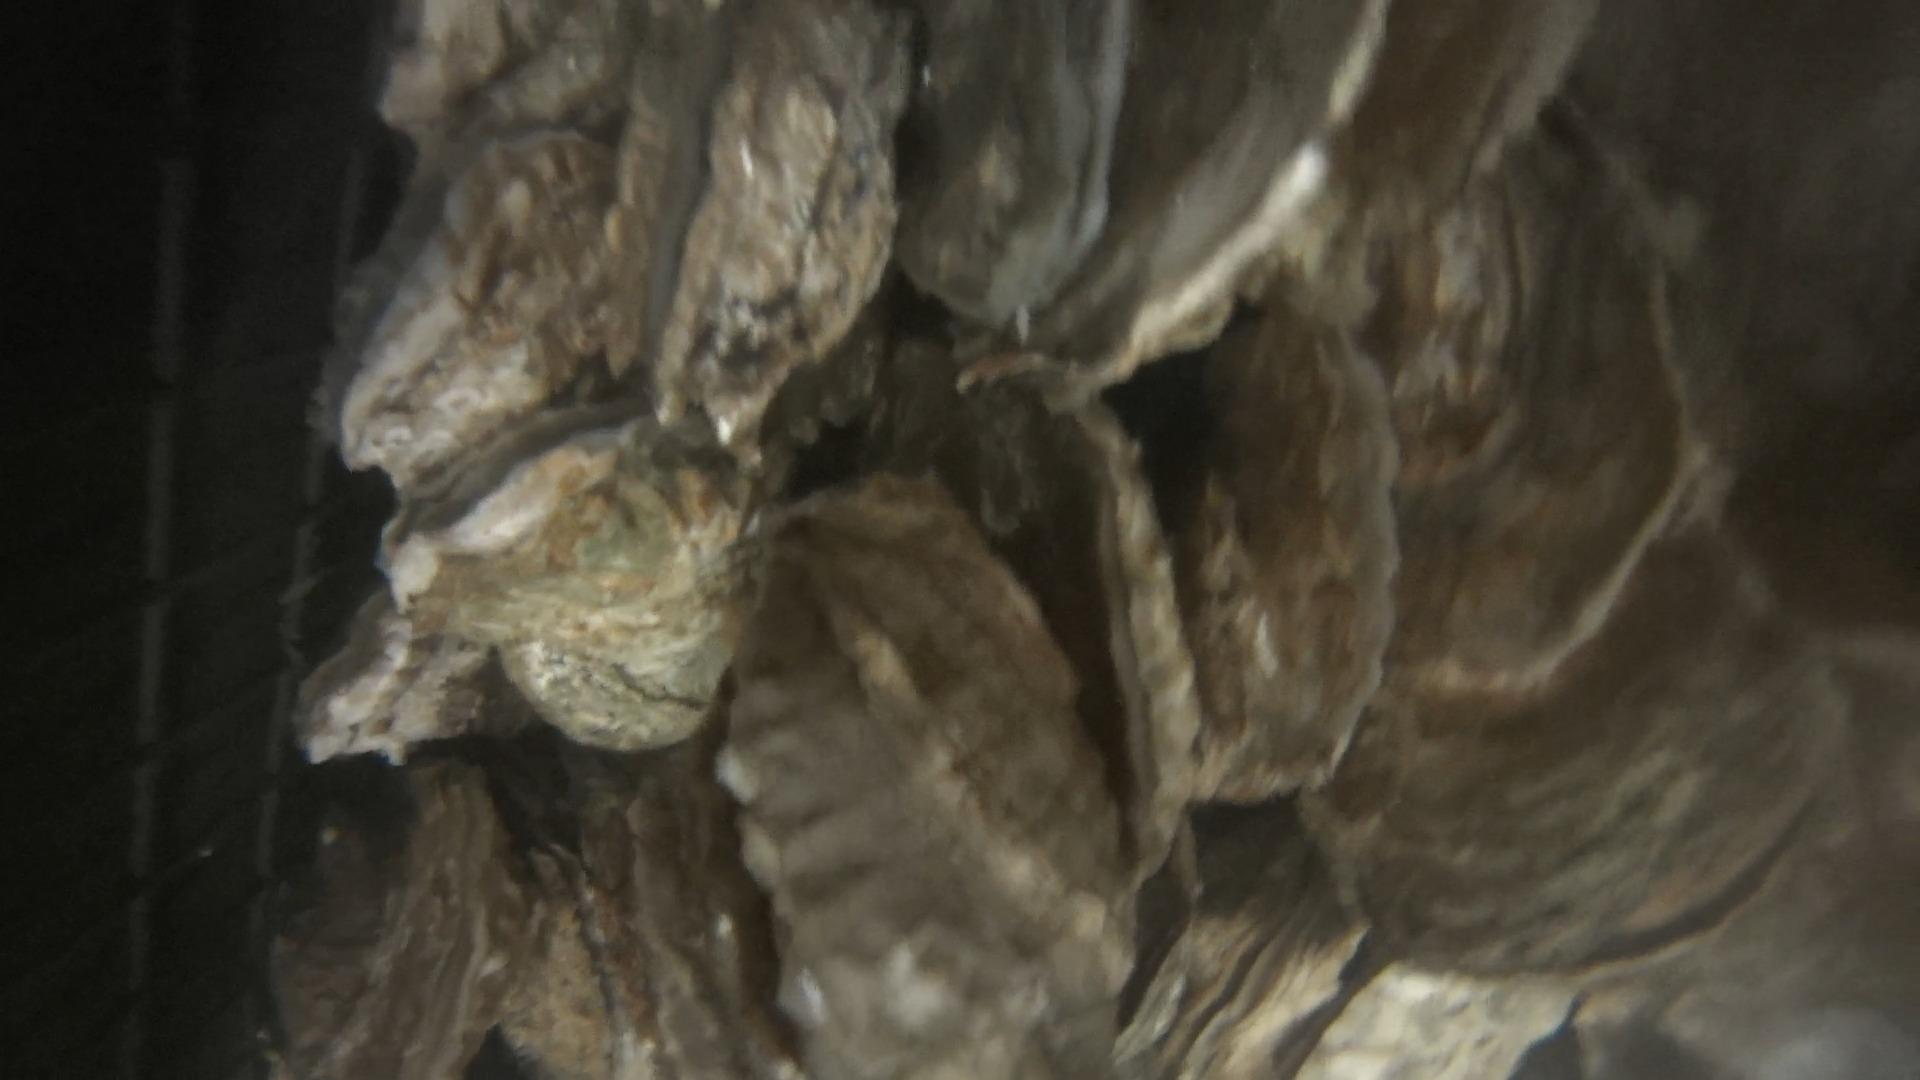3: (1362, 537, 1825, 981), (1065, 411, 1209, 913), (1120, 837, 1354, 1080), (1393, 178, 1535, 495), (487, 843, 640, 1080)
Oyster-Open: (723, 506, 1135, 1080), (389, 415, 756, 754), (328, 135, 615, 498), (1197, 313, 1398, 800), (274, 757, 497, 1080)
